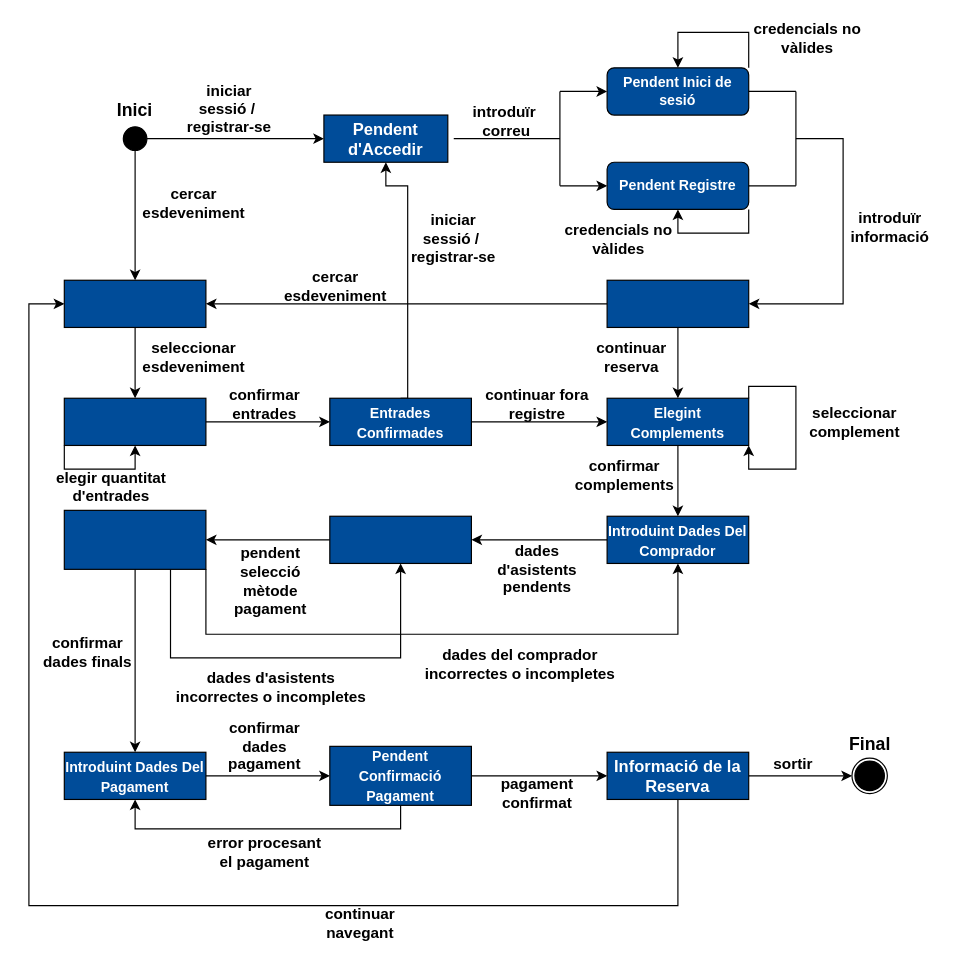
Some shapes in this 970 by 962 pixel diagram are drawn without their labels. The box of each missing label's shape, as (x1, y1, x2, y2) in pixels:
Introduint Dades Dels Asistents: (329, 515, 471, 563)
Navegant Esdeveniments: (63, 279, 206, 327)
Seleccionant Entrades: (63, 397, 206, 445)
Seleccionant Mètode De Pagament: (63, 509, 206, 569)
Usuari Registrat: (606, 279, 749, 327)
